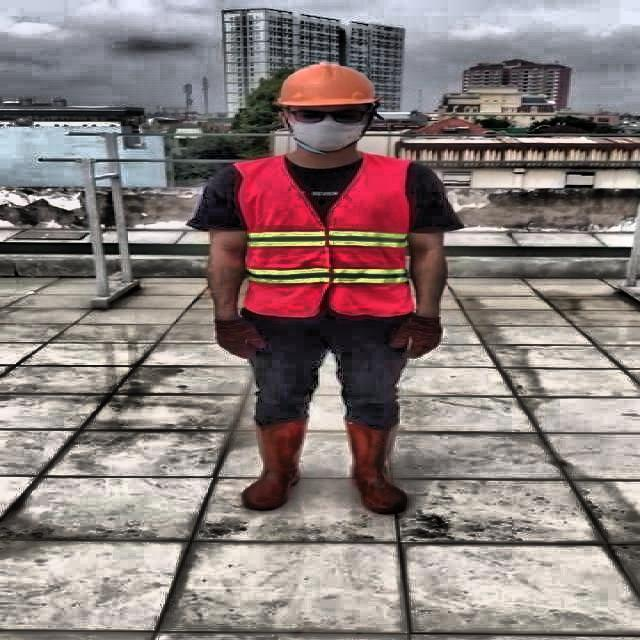safety_helmet: (276, 63, 378, 108)
safety_jacket: (233, 156, 414, 314)
